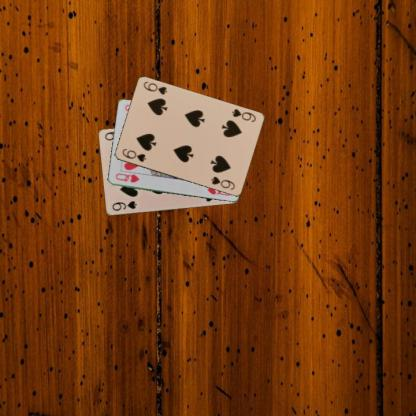6s: (119, 146, 147, 164), (229, 106, 256, 123)
9s: (109, 199, 138, 212)
Qh: (114, 171, 140, 184)
